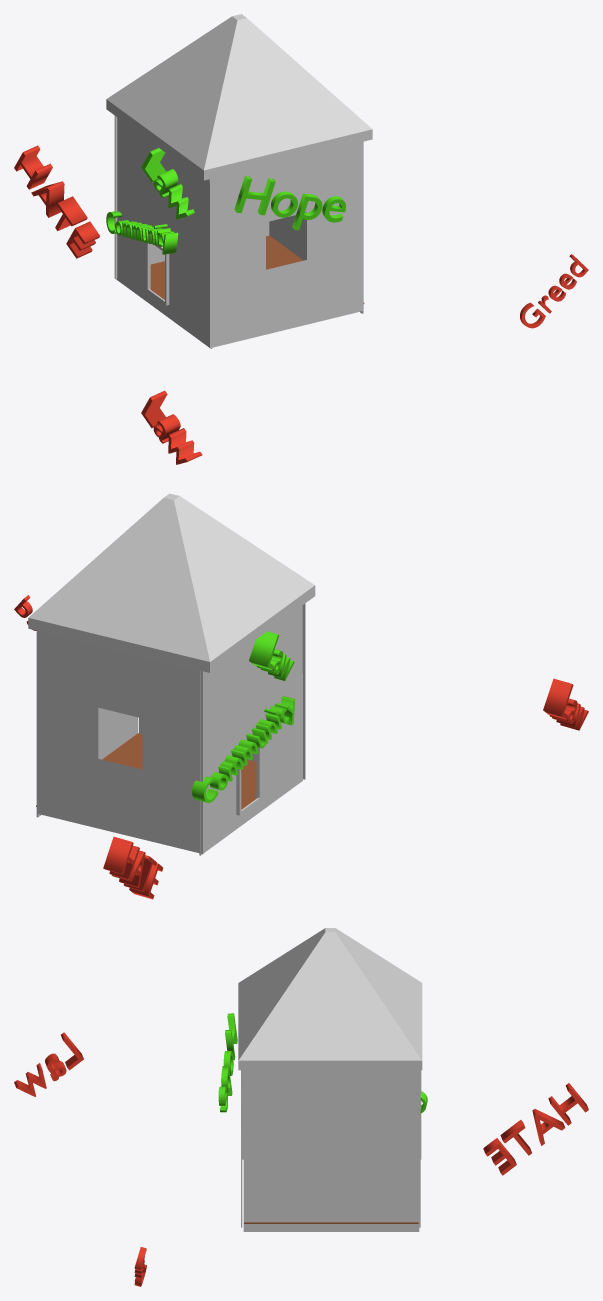
Rendered from housewip4.glb.
3 renders of one model, top to bottom at view 1: azimuth 30°, elevation 25°; view 2: azimuth 150°, elevation 25°; view 3: azimuth 270°, elevation 25°, orthographic. The views are drawn at different scales.
Visible parts, largest first — view 1: Plane, wall 1.001, wall 4, Text.001, Text.002, Text.004, Text.005, Text.007, floor, wall 3, Text, wall 1; view 2: Plane, wall 1, wall 4, Text.007, Text.001, wall 3, floor, Text.004, Text.005, wall 1.001; view 3: wall 3, Plane, Text.001, Text.004, Text.002.
Boxes of the visible parts, bbox=[...] form: Plane: bbox=[106, 14, 372, 180]; wall 1.001: bbox=[209, 141, 363, 348]; wall 4: bbox=[116, 117, 212, 348]; Text.001: bbox=[14, 145, 99, 258]; Text.002: bbox=[234, 176, 345, 230]; Text.004: bbox=[141, 390, 202, 464]; Text.005: bbox=[141, 148, 194, 218]; Text.007: bbox=[106, 211, 178, 254]; floor: bbox=[150, 235, 364, 303]; wall 3: bbox=[269, 212, 363, 313]; Text: bbox=[520, 254, 588, 328]; wall 1: bbox=[114, 116, 269, 278]; Plane: bbox=[28, 493, 315, 672]; wall 1: bbox=[37, 631, 203, 853]; wall 4: bbox=[199, 605, 302, 855]; Text.007: bbox=[192, 696, 295, 802]; Text.001: bbox=[103, 836, 163, 899]; wall 3: bbox=[36, 631, 138, 817]; floor: bbox=[36, 733, 256, 809]; Text.004: bbox=[543, 678, 588, 730]; Text.005: bbox=[249, 631, 294, 680]; wall 1.001: bbox=[139, 603, 305, 779]; wall 3: bbox=[243, 1070, 419, 1231]; Plane: bbox=[238, 928, 422, 1070]; Text.001: bbox=[483, 1083, 588, 1175]; Text.004: bbox=[14, 1032, 83, 1096]; Text.002: bbox=[218, 1013, 237, 1112].
Size of the model in its own units: 50.12 by 29.08 by 55.42.
